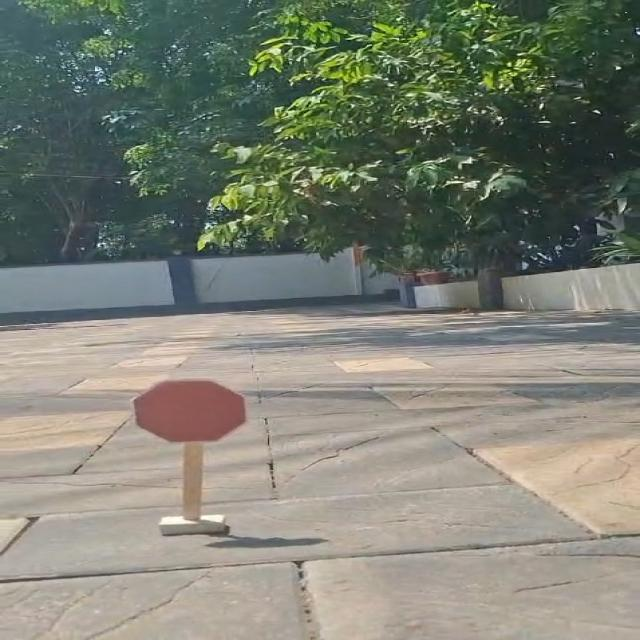Stop: (125, 370, 261, 450)
